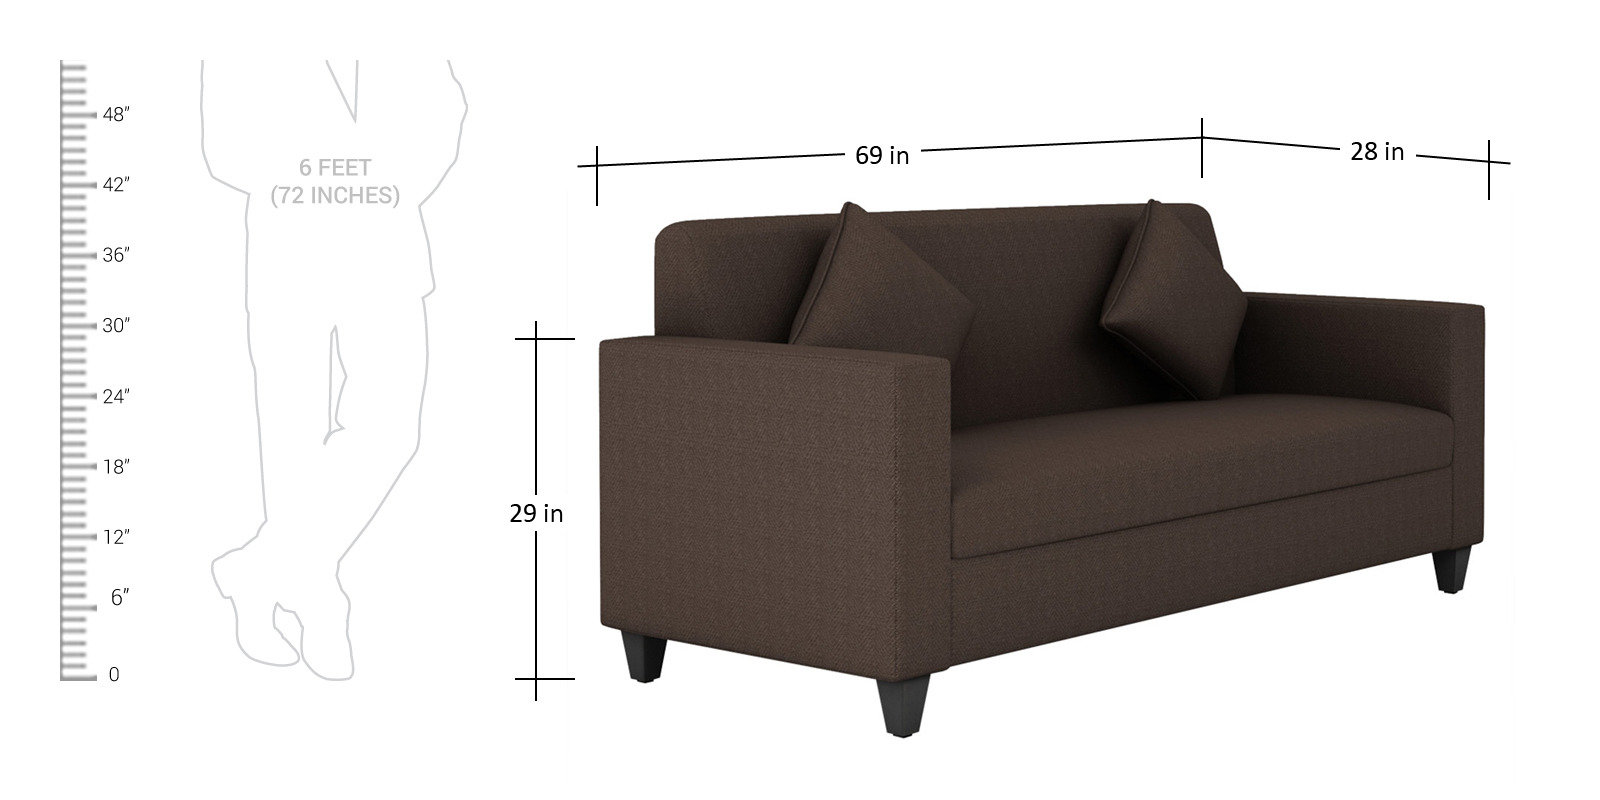Cooper Three Seater Sofa by ARRA: (595, 202, 1497, 713)
